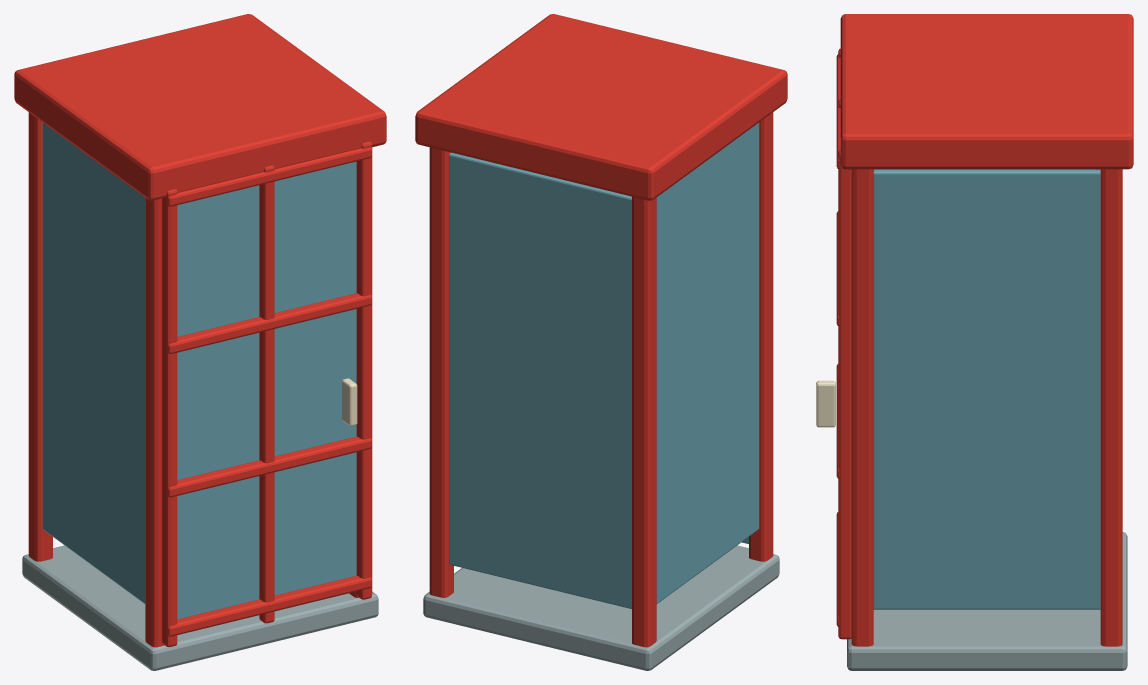
File: S058_phone_booth.glb
The picture shows the model from 3 angles, left to right: view 1: azimuth 30°, elevation 25°; view 2: azimuth 150°, elevation 25°; view 3: azimuth 270°, elevation 25°; orthographic projection. The views are drawn at different scales.
Parts seen in each view (by area): view 1: door_glass, booth_roof, side_glass, booth_floor, booth_corner, booth_corner.001, door_stile, door_stile.001, door_stile.002, door_crossbar, door_crossbar.001, door_crossbar.002 (+2 smaller); view 2: back_glass, booth_roof, side_glass, booth_floor, booth_corner.001, booth_corner.003, booth_corner; view 3: side_glass.001, booth_roof, booth_floor, booth_corner.002, booth_corner.003, door_stile.002, booth_handle, door_crossbar.003.
Boxes of the visible parts, left/top/right/bottom form: door_glass: left=177, top=161, right=356, bottom=619; booth_roof: left=14, top=14, right=386, bottom=200; side_glass: left=42, top=122, right=145, bottom=603; booth_floor: left=22, top=545, right=378, bottom=670; booth_corner: left=145, top=198, right=164, bottom=647; booth_corner.001: left=28, top=112, right=52, bottom=561; door_stile: left=162, top=189, right=177, bottom=647; door_stile.001: left=259, top=165, right=274, bottom=623; door_stile.002: left=356, top=141, right=371, bottom=599; door_crossbar: left=167, top=575, right=372, bottom=636; door_crossbar.001: left=167, top=436, right=372, bottom=497; door_crossbar.002: left=167, top=293, right=372, bottom=354; back_glass: left=449, top=152, right=631, bottom=608; booth_roof: left=415, top=14, right=787, bottom=200; side_glass: left=656, top=122, right=759, bottom=603; booth_floor: left=423, top=545, right=779, bottom=670; booth_corner.001: left=632, top=196, right=656, bottom=647; booth_corner.003: left=429, top=147, right=453, bottom=597; booth_corner: left=749, top=112, right=773, bottom=561; side_glass.001: left=873, top=169, right=1100, bottom=609; booth_roof: left=840, top=14, right=1133, bottom=169; booth_floor: left=847, top=532, right=1127, bottom=670; booth_corner.002: left=851, top=169, right=873, bottom=646; booth_corner.003: left=1100, top=169, right=1122, bottom=646; door_stile.002: left=838, top=149, right=851, bottom=639; booth_handle: left=816, top=380, right=835, bottom=427; door_crossbar.003: left=836, top=54, right=840, bottom=169.
Size of the model in its own units: 1.2 by 2.44 by 1.3.
